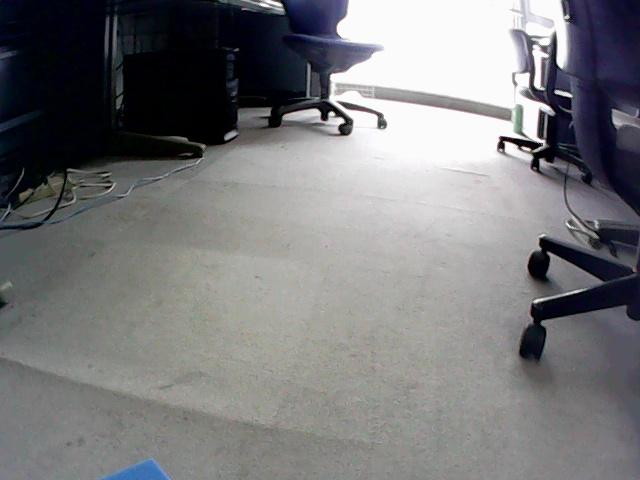blue_block: (102, 459, 169, 479)
